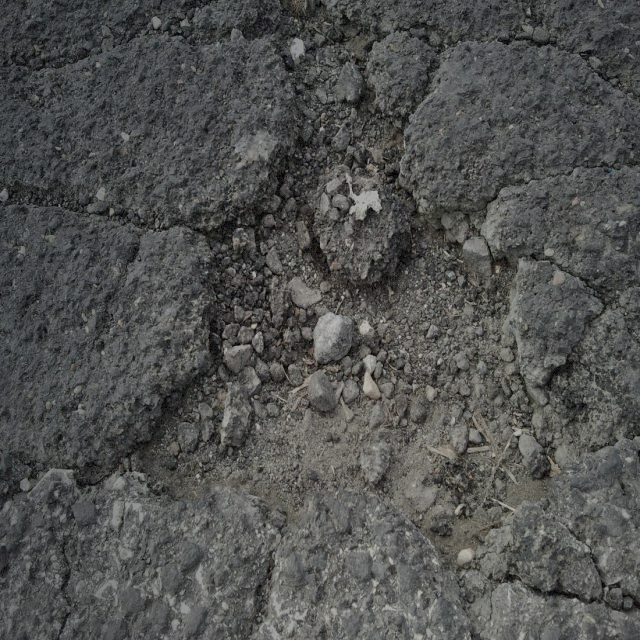pothole: (128, 140, 569, 572)
